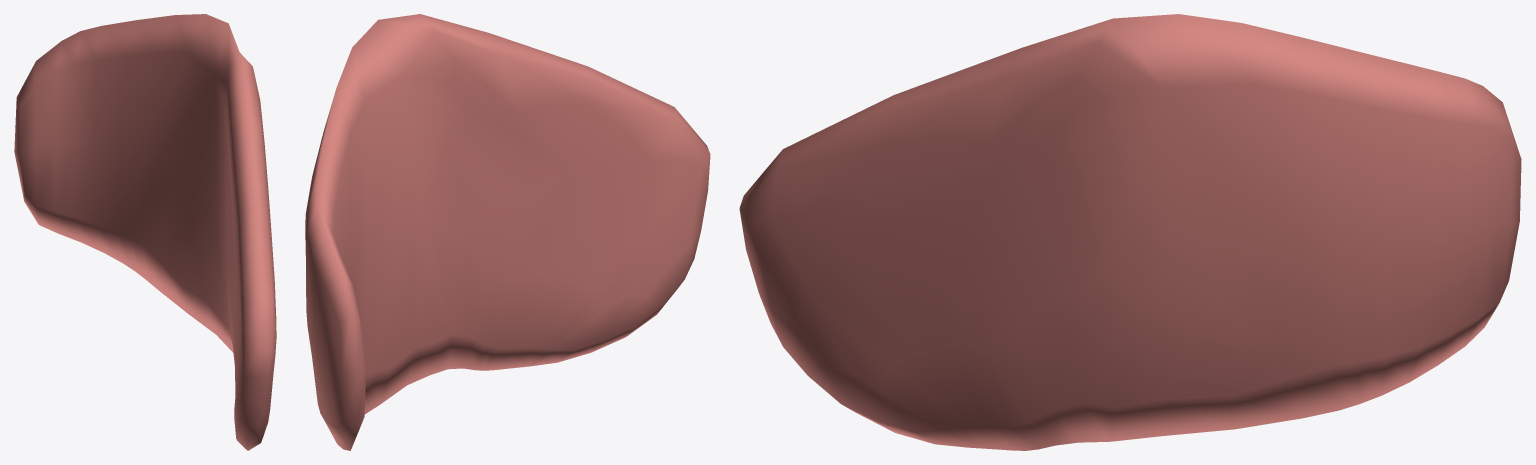
The picture shows the model from 3 angles, left to right: view 1: azimuth 30°, elevation 25°; view 2: azimuth 150°, elevation 25°; view 3: azimuth 270°, elevation 25°; orthographic projection. The views are drawn at different scales.
Parts seen in each view (by area): view 1: ZA_808a2b3d7c9a45bf; view 2: ZA_808a2b3d7c9a45bf; view 3: ZA_808a2b3d7c9a45bf.
Boxes of the visible parts, x1,y1,x2,y2 form: ZA_808a2b3d7c9a45bf: [14, 14, 276, 450]; ZA_808a2b3d7c9a45bf: [305, 14, 710, 450]; ZA_808a2b3d7c9a45bf: [739, 14, 1521, 450].
Bounding box in the file's own units: 0.00223 × 0.00503 × 0.0075.
